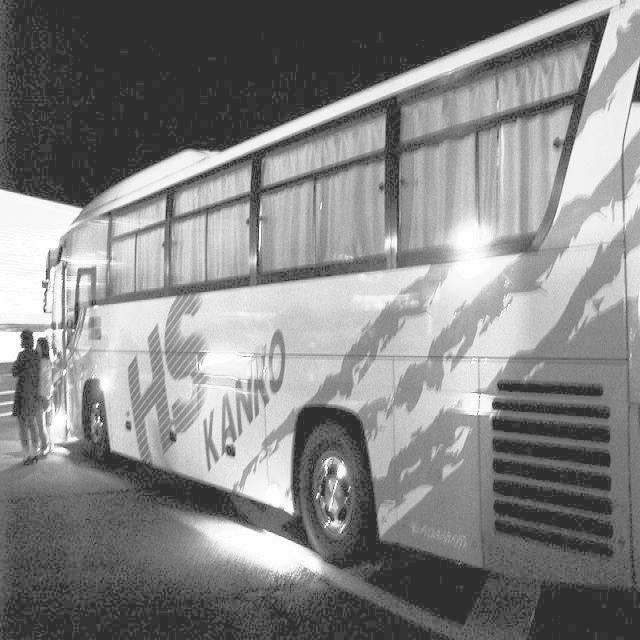Bus: (45, 113, 640, 640)
